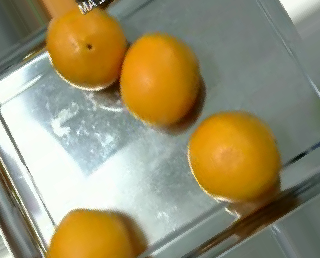Orange: (186, 109, 282, 202), (119, 32, 202, 127)
